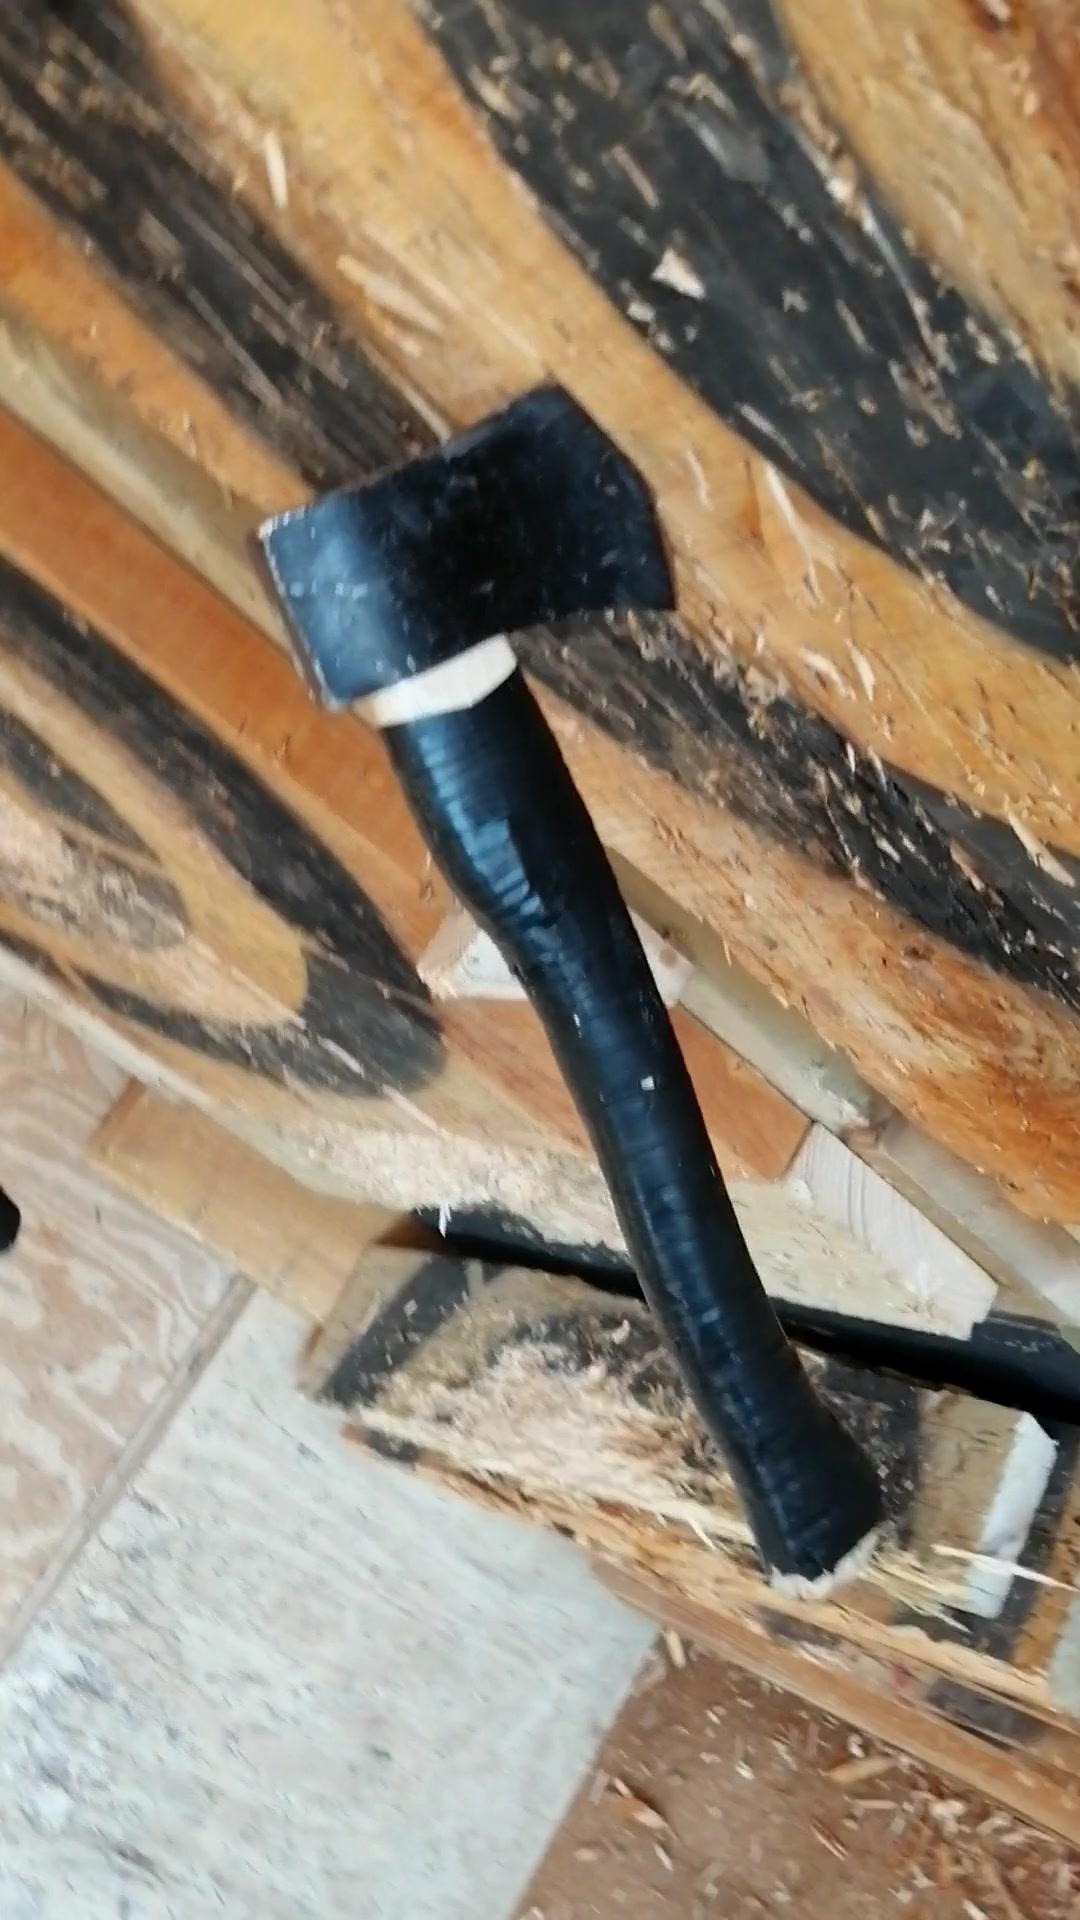Hand Axe: (253, 375, 676, 712)
